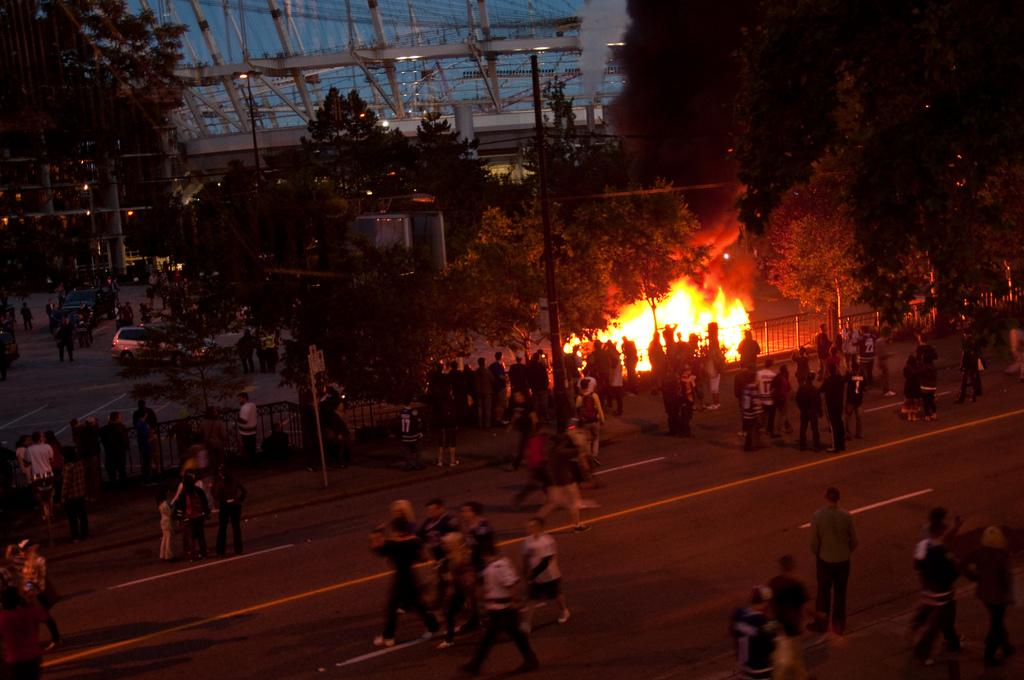fire: (623, 290, 742, 345)
